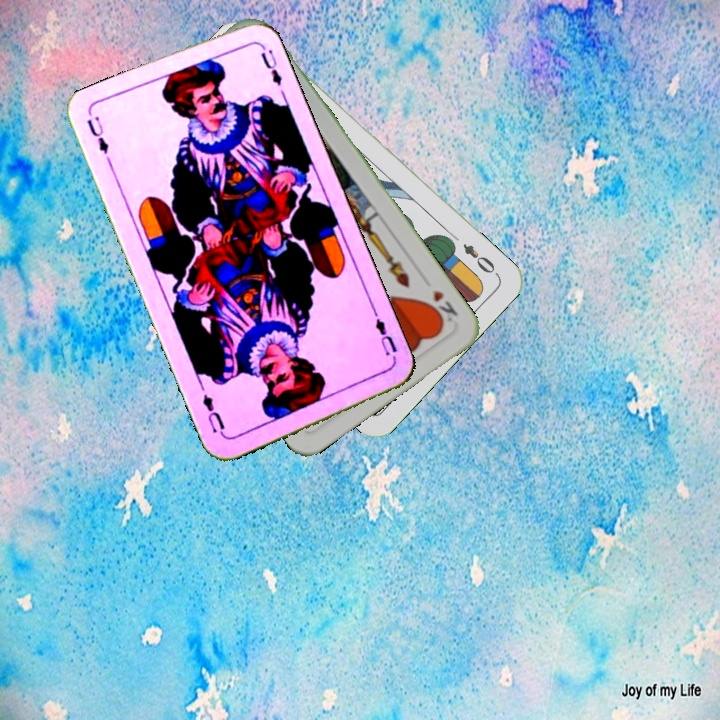EO: (458, 239, 501, 279)
EU: (82, 112, 112, 157), (371, 315, 400, 359)
HK: (423, 285, 461, 327)
